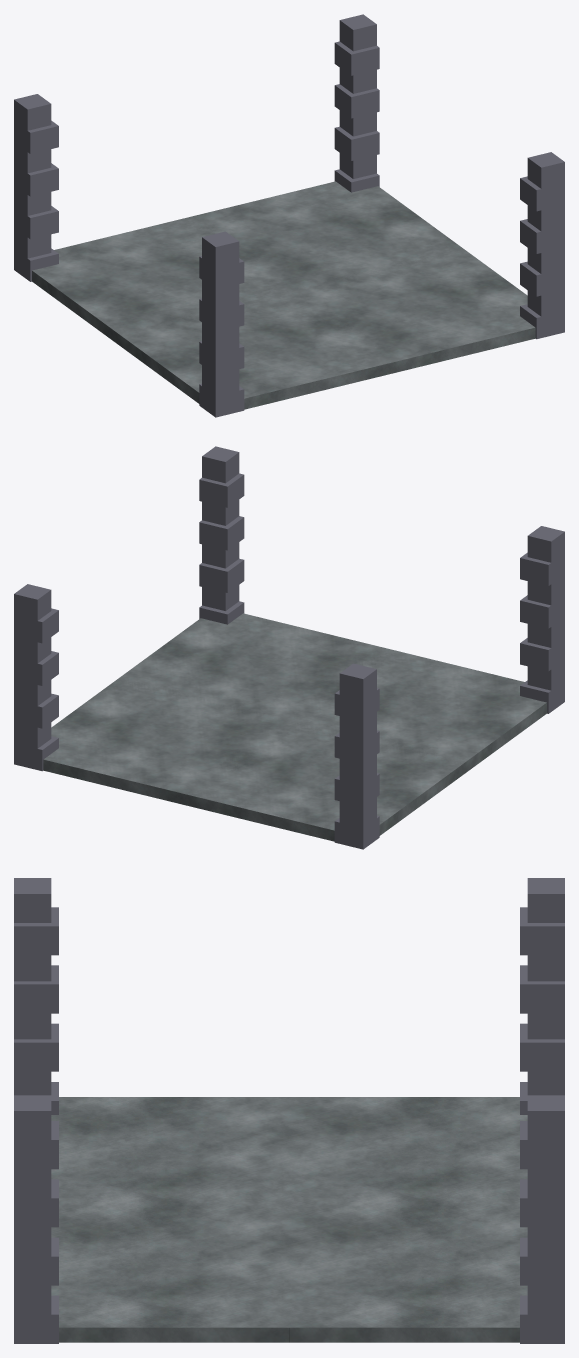
File: intersection_4way_05.fbx
3 views of the same model, one above another, from view 1: azimuth 30°, elevation 25°; view 2: azimuth 150°, elevation 25°; view 3: azimuth 270°, elevation 25° (orthographic). The views are drawn at different scales.
Parts seen in each view (by area): view 1: floor_01_73, wall_borderBricks_98, wall_borderBricks_97, wall_borderBricks_95, wall_borderBricks_96; view 2: floor_01_73, wall_borderBricks_95, wall_borderBricks_96, wall_borderBricks_98, wall_borderBricks_97; view 3: floor_01_73, wall_borderBricks_96, wall_borderBricks_97, wall_borderBricks_95, wall_borderBricks_98.
Part boxes in pixels (x1,y1,x2,y2): floor_01_73: (32, 181, 535, 409); wall_borderBricks_98: (199, 231, 244, 417); wall_borderBricks_97: (520, 152, 564, 339); wall_borderBricks_95: (14, 94, 58, 281); wall_borderBricks_96: (334, 14, 379, 192); floor_01_73: (43, 613, 546, 841); wall_borderBricks_95: (334, 663, 379, 849); wall_borderBricks_96: (14, 584, 58, 771); wall_borderBricks_98: (520, 526, 564, 713); wall_borderBricks_97: (199, 446, 244, 624); floor_01_73: (51, 1097, 527, 1342); wall_borderBricks_96: (520, 1095, 564, 1343); wall_borderBricks_97: (14, 1095, 58, 1343); wall_borderBricks_95: (520, 878, 564, 1114); wall_borderBricks_98: (14, 878, 58, 1114).
Size of the model in its own units: 21.45 by 10 by 21.45.
